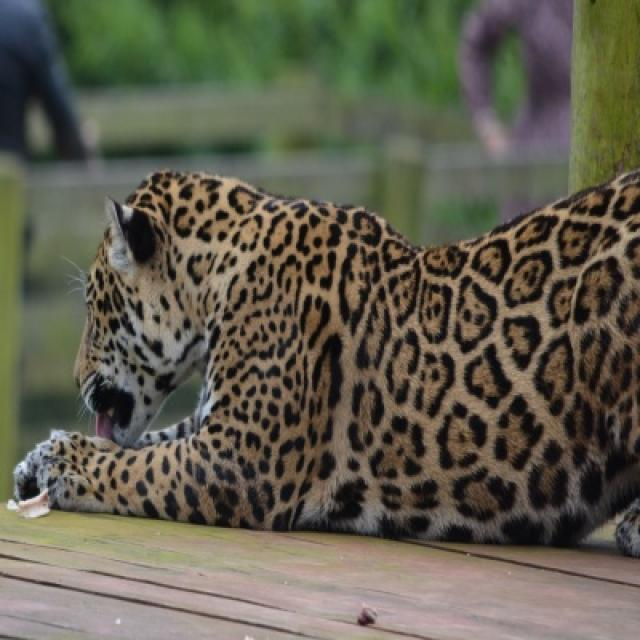Jaguar: (16, 168, 638, 546)
